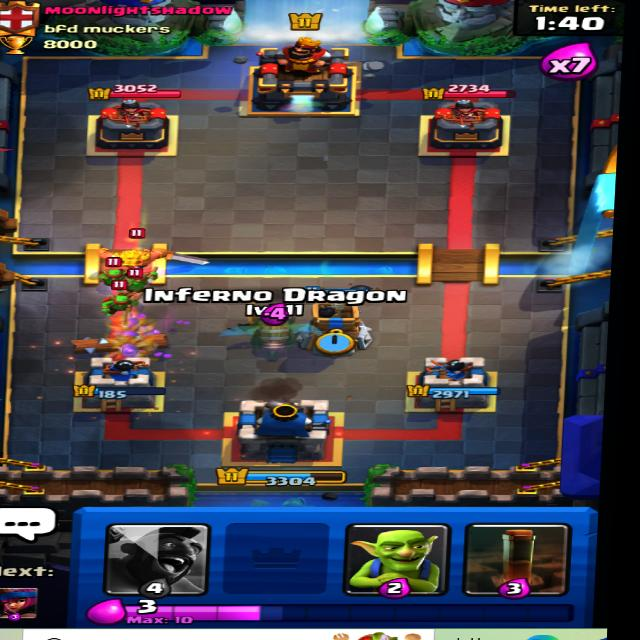golden-knight: (101, 228, 192, 277)
golden-knight-ability: (96, 233, 180, 282)
spear-goblin: (96, 256, 132, 286), (125, 268, 160, 292), (98, 290, 137, 311)
